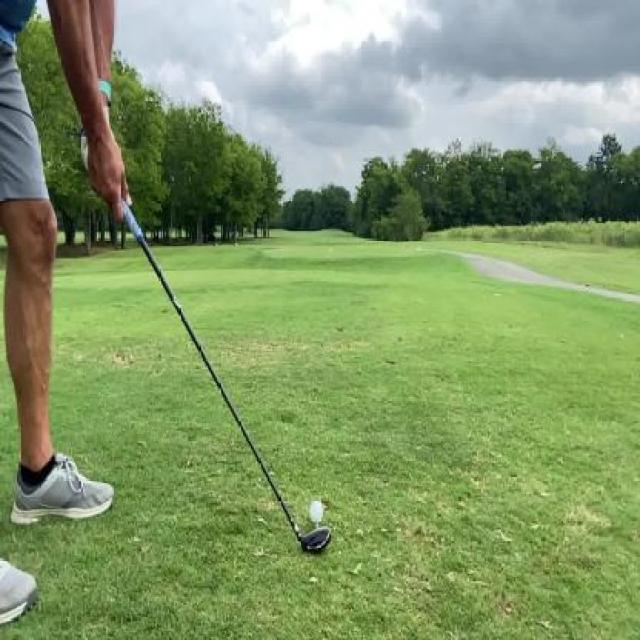club head: (292, 519, 332, 555)
